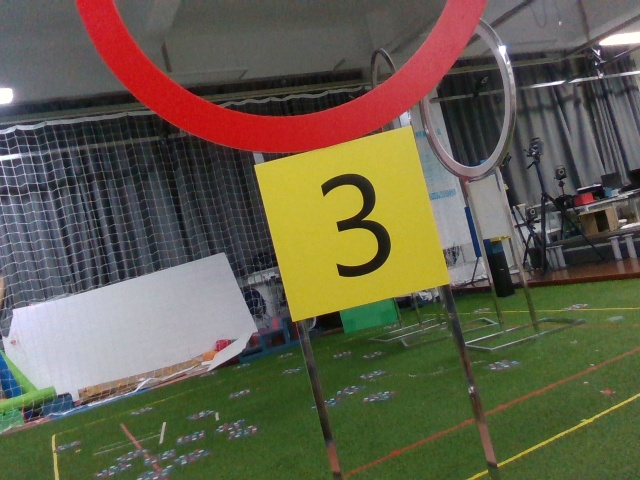target: (274, 149, 433, 301)
